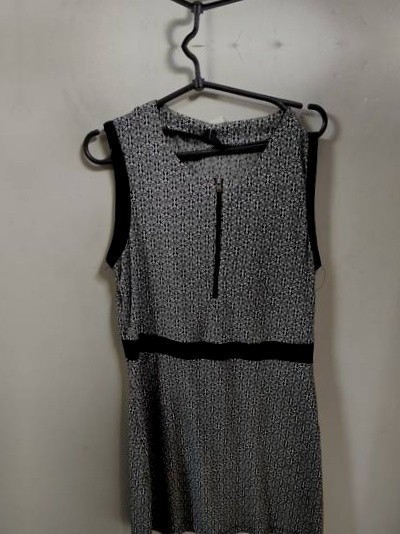Dress: (98, 82, 368, 534), (88, 0, 358, 8)
